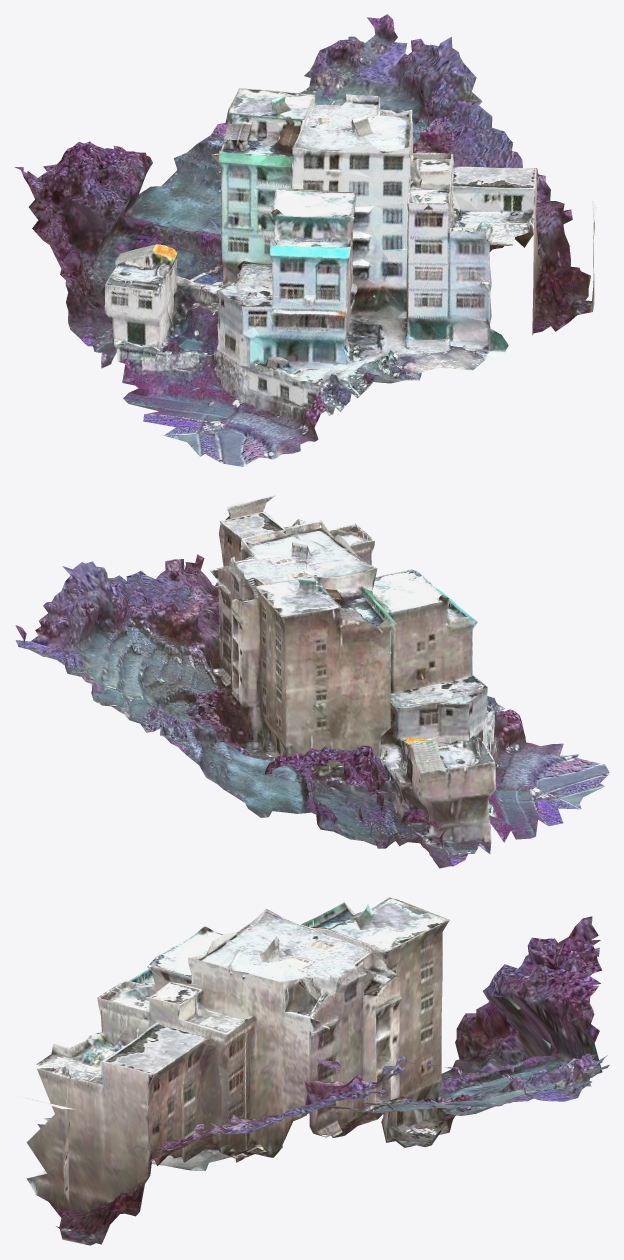
The model's file is Tile_+011_+019_L19_000003.glb.
3 views of the same model, one above another, from view 1: azimuth 30°, elevation 25°; view 2: azimuth 150°, elevation 25°; view 3: azimuth 270°, elevation 25° (orthographic). The views are drawn at different scales.
Parts seen in each view (by area): view 1: rtc; view 2: rtc; view 3: rtc.
Part boxes in pixels (left/top/right/bottom): rtc: left=14, top=14, right=596, bottom=466; rtc: left=15, top=495, right=609, bottom=868; rtc: left=16, top=897, right=609, bottom=1245.
Size of the model in its own units: 55.2 by 31.05 by 56.7.
1 material, 1 textured.
